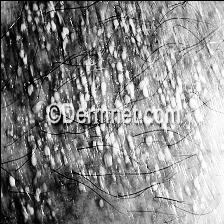Non-Cancerous Skin Condition: (13, 0, 191, 96), (105, 128, 224, 223), (0, 151, 80, 224), (203, 26, 224, 92), (0, 64, 9, 94)
